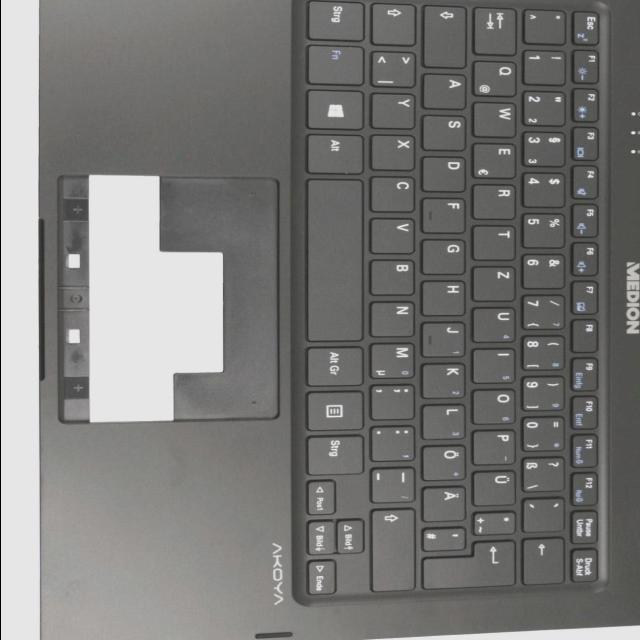0: (522, 414, 568, 450)
1: (525, 48, 569, 84)
2: (524, 89, 570, 125)
3: (524, 128, 570, 165)
4: (525, 169, 569, 205)
5: (524, 210, 570, 246)
6: (524, 251, 568, 287)
7: (524, 293, 568, 329)
8: (524, 333, 568, 369)
9: (523, 374, 567, 410)
a: (423, 71, 471, 108)
accent: (524, 495, 568, 531)
ae: (423, 484, 469, 521)
alt-left: (307, 130, 368, 172)
altgr-right: (308, 344, 368, 385)
b: (371, 257, 419, 295)
c: (371, 173, 419, 211)
caret: (526, 7, 570, 43)
comma: (371, 381, 419, 419)
d: (423, 154, 469, 191)
del: (524, 535, 568, 584)
e: (473, 140, 519, 178)
enter: (423, 538, 521, 588)
f: (423, 195, 469, 232)
g: (423, 236, 469, 273)
h: (422, 277, 468, 315)
hash: (424, 524, 470, 549)
i: (473, 346, 519, 382)
j: (422, 320, 468, 356)
k: (422, 361, 468, 398)
keyboard: (290, 0, 617, 604)
l: (422, 402, 468, 438)
less: (372, 49, 420, 86)
m: (370, 340, 418, 378)
minus: (373, 464, 419, 502)
n: (370, 299, 418, 336)
o: (473, 386, 519, 423)
oe: (423, 443, 469, 480)
p: (473, 427, 519, 464)
plus: (476, 509, 520, 534)
point: (372, 423, 418, 461)
q: (474, 58, 520, 96)
r: (473, 182, 519, 218)
s: (422, 113, 470, 150)
shift-left: (372, 0, 420, 43)
shift-lock: (425, 2, 471, 66)
shift-right: (373, 506, 421, 590)
space: (306, 178, 369, 344)
ss: (524, 454, 568, 491)
strg-left: (308, 0, 370, 39)
strg-right: (307, 432, 368, 474)
t: (473, 223, 519, 259)
tab: (474, 4, 522, 53)
u: (472, 305, 518, 341)
ue: (473, 468, 519, 504)
v: (371, 216, 419, 253)
w: (475, 99, 521, 135)
x: (371, 133, 419, 169)
y: (371, 90, 419, 128)
z: (473, 264, 519, 300)
